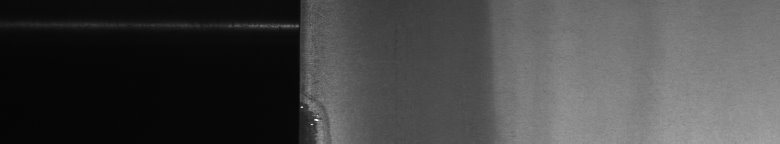hb: (308, 8, 336, 136)
